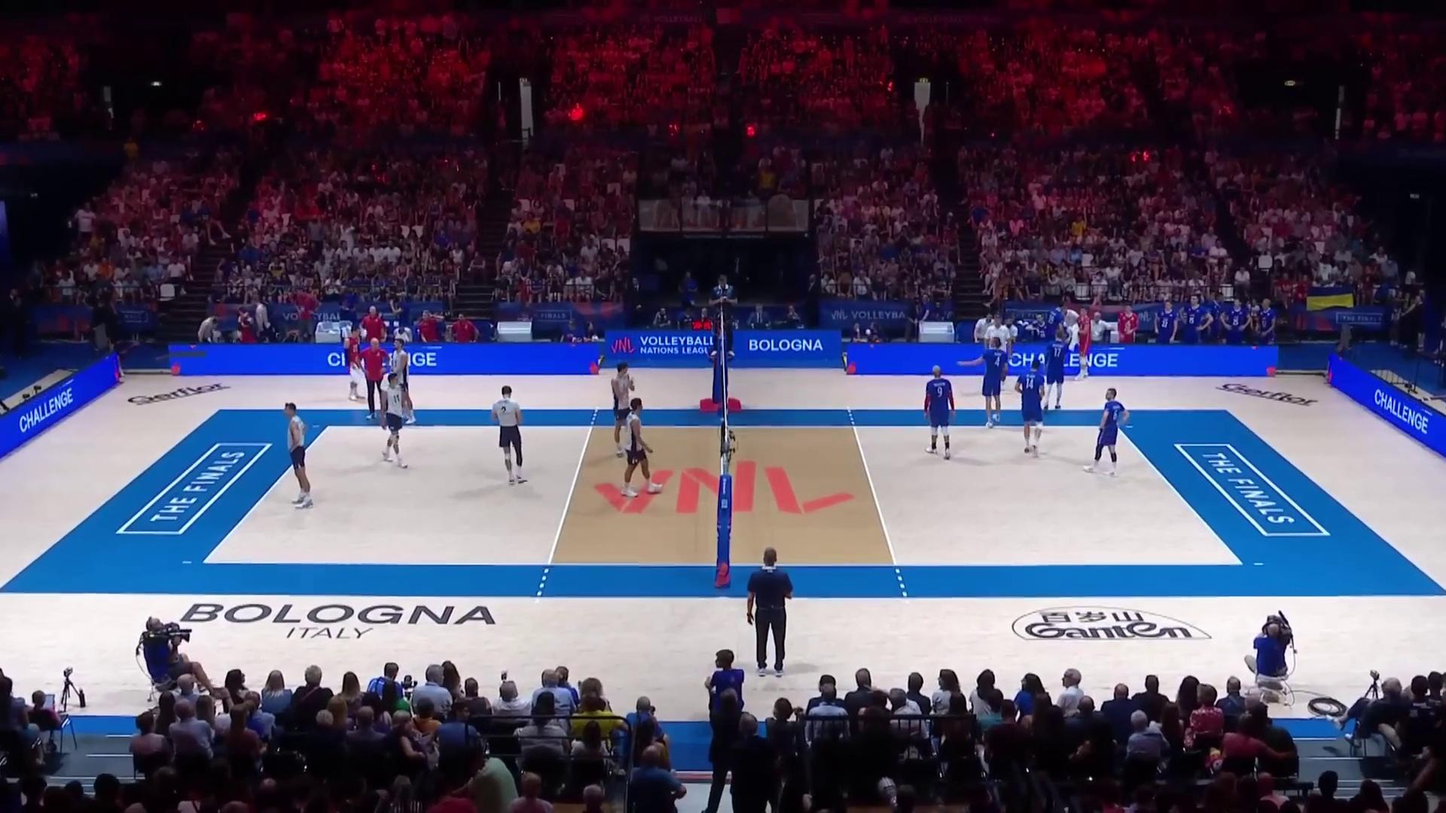player: (1087, 387, 1131, 477), (621, 398, 661, 497), (608, 355, 647, 455), (494, 385, 528, 485), (923, 364, 957, 461), (283, 403, 314, 507), (975, 338, 1008, 427), (1016, 361, 1047, 455), (380, 375, 407, 467), (390, 340, 416, 422), (1045, 331, 1067, 410)
refree: (746, 549, 792, 676), (709, 275, 734, 358)
